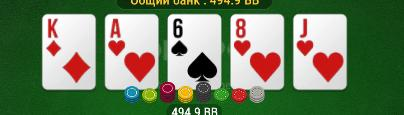6s: (169, 16, 221, 88)
8h: (231, 15, 283, 89)
Ah: (104, 15, 159, 88)
Jh: (294, 14, 346, 89)
Kd: (43, 15, 95, 89)
